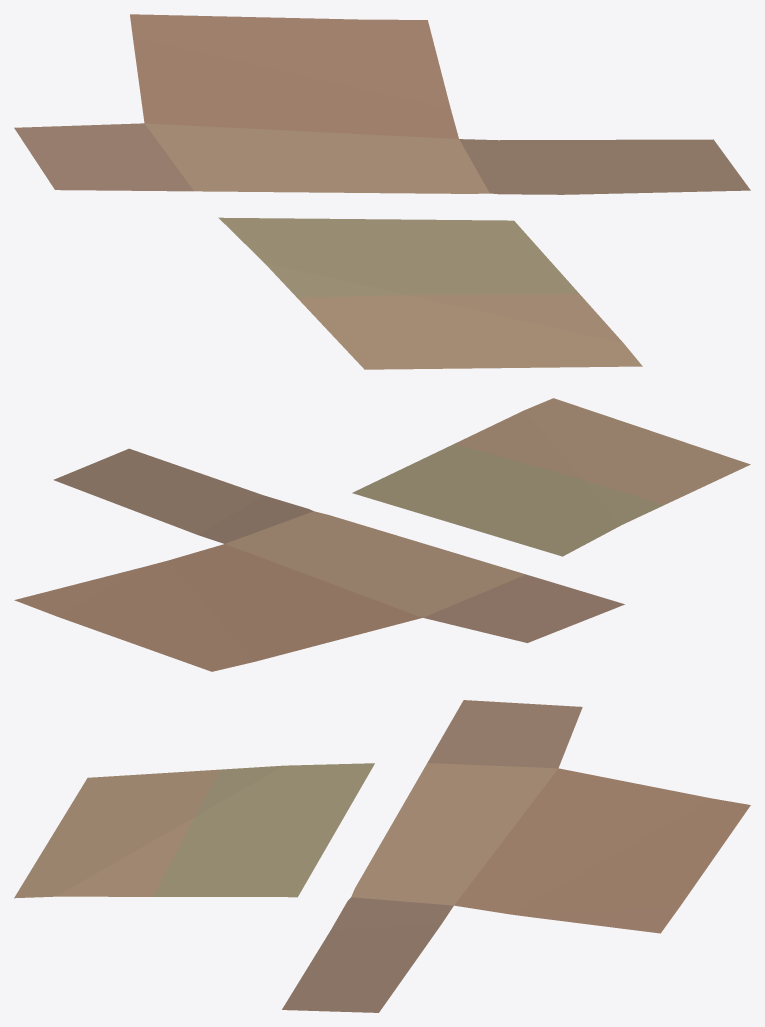
Rendered from farm_-11_3_soil.glb.
The picture shows the model from 3 angles, top to bottom: view 1: azimuth 30°, elevation 25°; view 2: azimuth 150°, elevation 25°; view 3: azimuth 270°, elevation 25°; orthographic projection. The views are drawn at different scales.
Visible parts, largest first — view 1: geometry_0; view 2: geometry_0; view 3: geometry_0.
Part boxes in pixels (x1,y1,x2,y2): geometry_0: (14, 14, 750, 369); geometry_0: (14, 398, 750, 671); geometry_0: (14, 700, 750, 1012).
Bounding box in the file's own units: 90.39 × 10.42 × 109.
